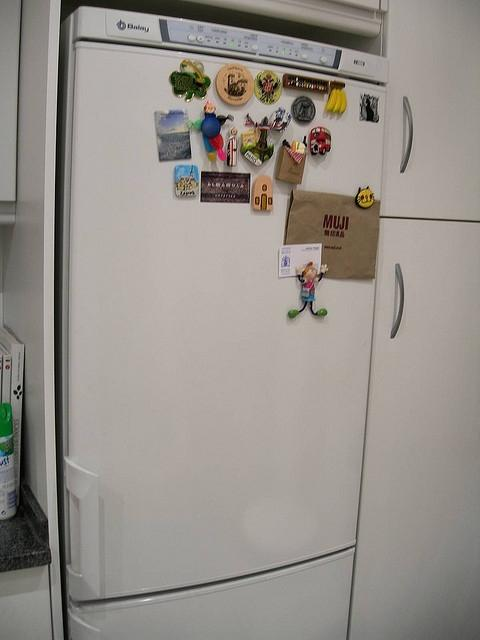banana: (332, 88, 342, 115), (325, 89, 336, 112), (338, 90, 347, 114)
